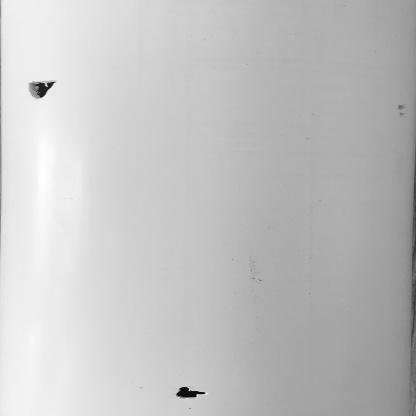kongdong: (22, 74, 67, 100), (169, 382, 210, 403)
